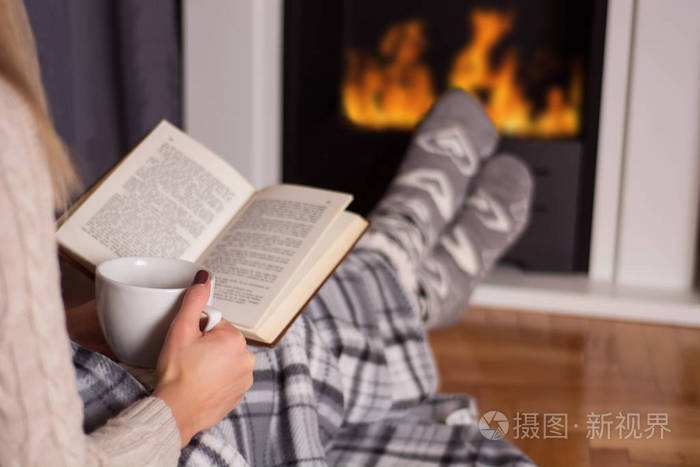book: (44, 110, 373, 427)
